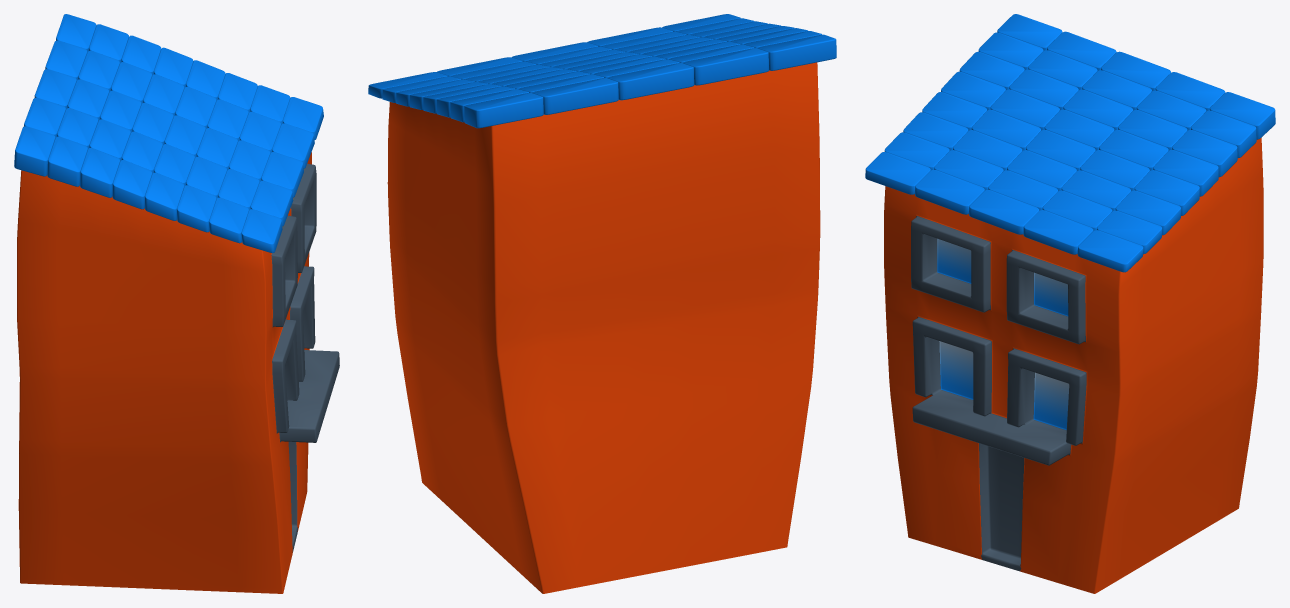
The model's file is EdificioChoncho.fbx.
3 renders of one model, left to right at view 1: azimuth 30°, elevation 25°; view 2: azimuth 150°, elevation 25°; view 3: azimuth 270°, elevation 25°, orthographic. The views are drawn at different scales.
Visible parts, largest first — view 1: edificio3; view 2: edificio3; view 3: edificio3.
Boxes of the visible parts, x1=… form: edificio3: x1=14, y1=14, x2=339, y2=593; edificio3: x1=368, y1=14, x2=836, y2=593; edificio3: x1=865, y1=14, x2=1275, y2=593.
Size of the model in its own units: 635 by 750 by 653.
Materials: 1 (1 with a texture image).
